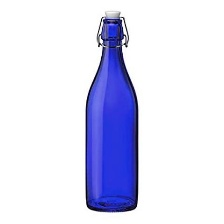bottle: (80, 5, 142, 216)
